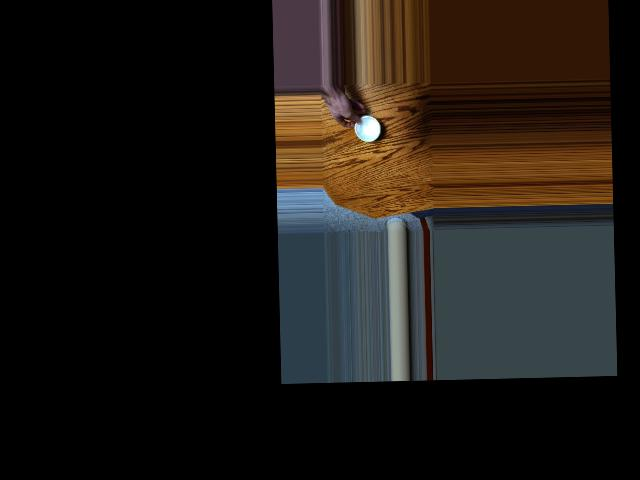cotage: (351, 115, 383, 142)
